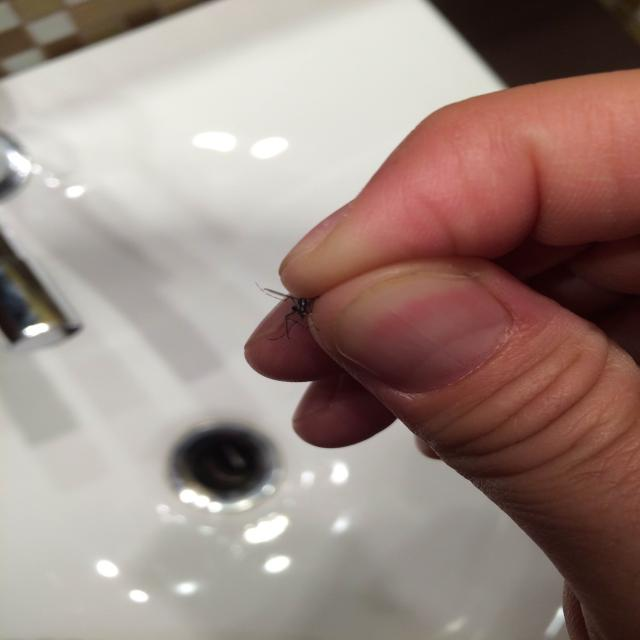albopictus: (255, 277, 334, 346)
